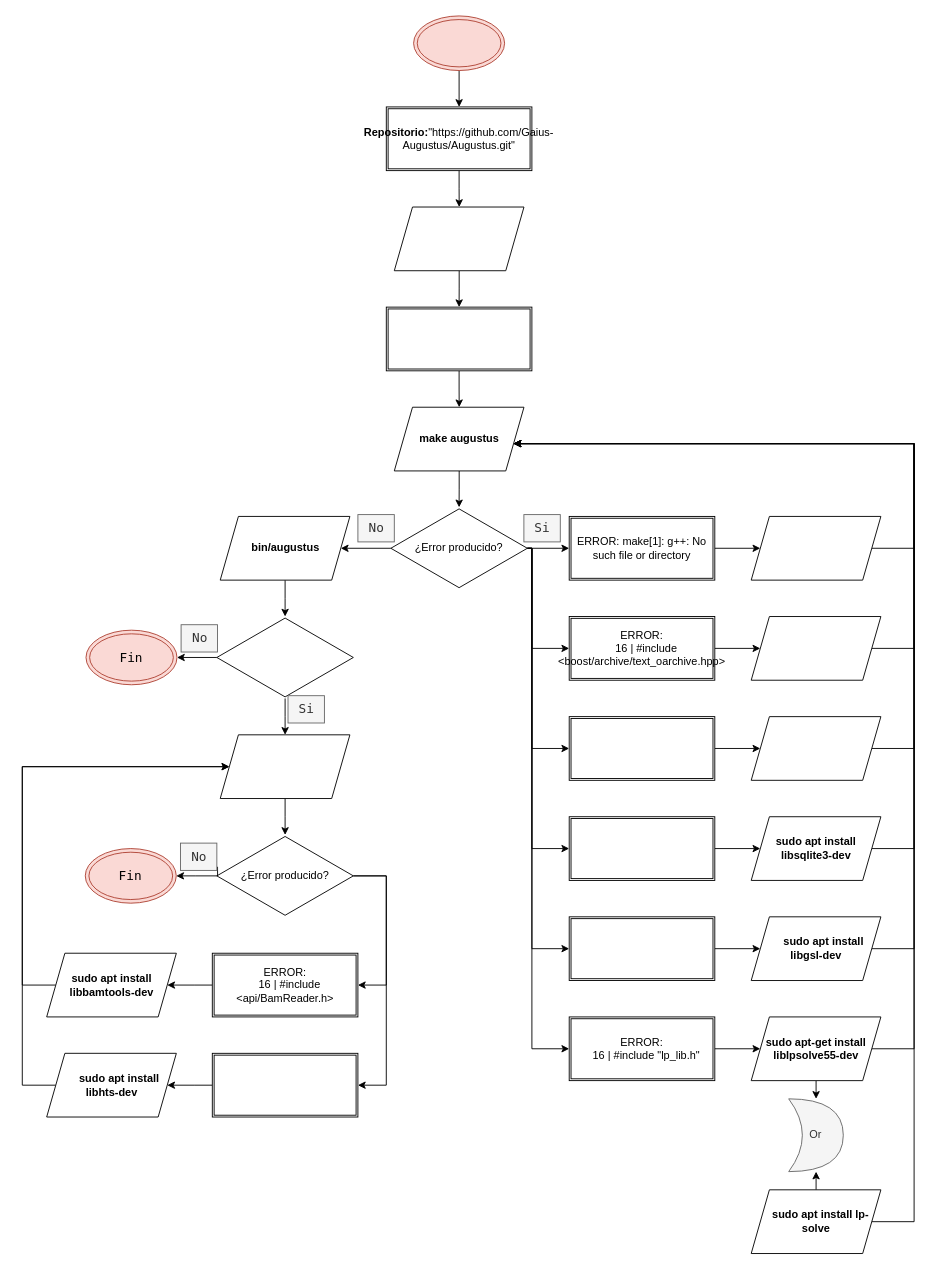
The diagram is 937 pixels wide and 1269 high, and some of its shapes have lost their labels. Here are the shapes that lost their labels. From the top down, the centre of each, then its label:
(459,43): Inicio
(458,238): git clone https://github.com/Gaius-Augustus/Augustus.git
(458,338): Entrar al directorio Augustus
(815,548): sudo apt install g++
(284,657): ¿Compilar utilidades adicionales?
(815,648): sudo apt install libboost-all-dev
(284,766): make auxprogs
(641,748): ERROR: 21 | #include <mysql++/mysql++.h>
(815,748): sudo apt install libmysql++-dev
(641,848): ERROR: 13 | #include <sqlite3.h>
(641,948): ERROR: 18 | #include <gsl/gsl_matrix.h>
(284,1084): ERROR: 12 | #include "bgzf.h"
